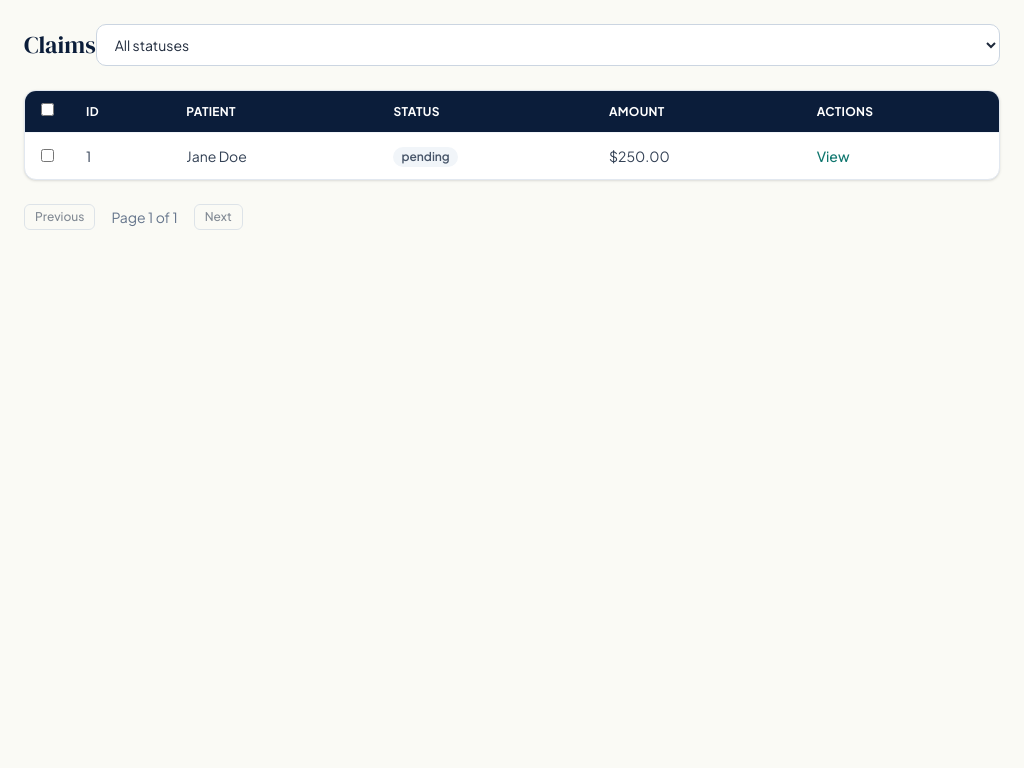
Test: ClaimsList › permission gating › enables the confirm Submit button when the user has billing:batch
Expected: the text "Jane Doe" is shown, [170, 132, 377, 179]
Click the checkbox named "Select claim 1".
click(48, 156)  # box [41, 149, 54, 162]
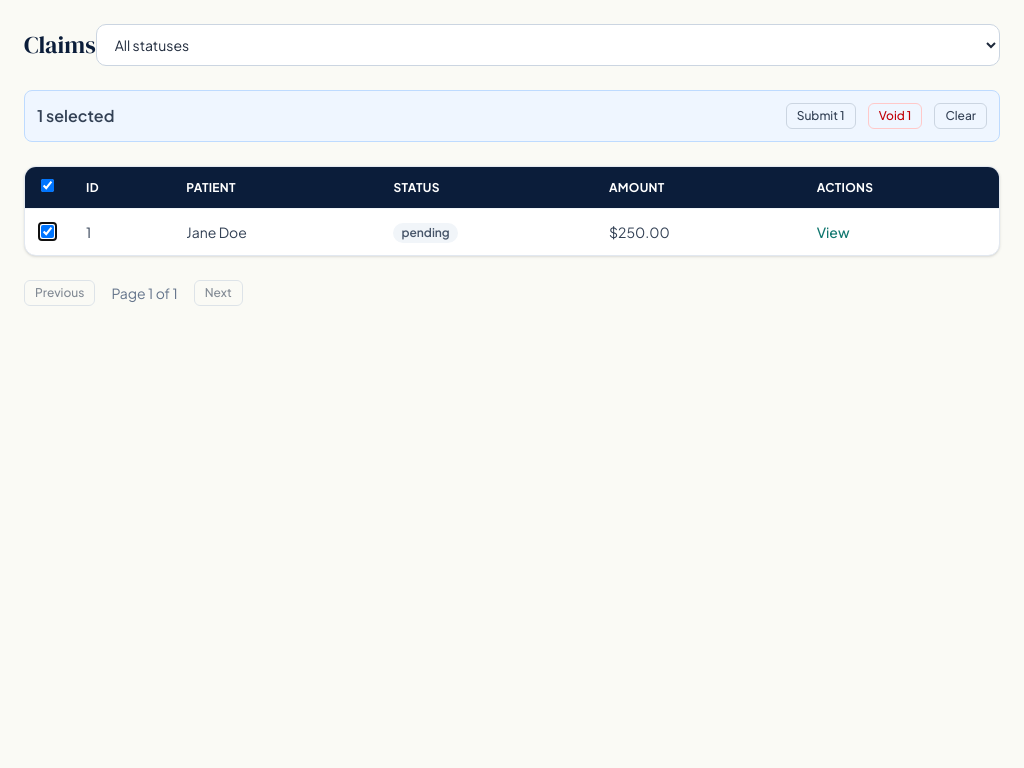
Click the button "Submit 1".
click(821, 116)  # box [786, 103, 856, 129]
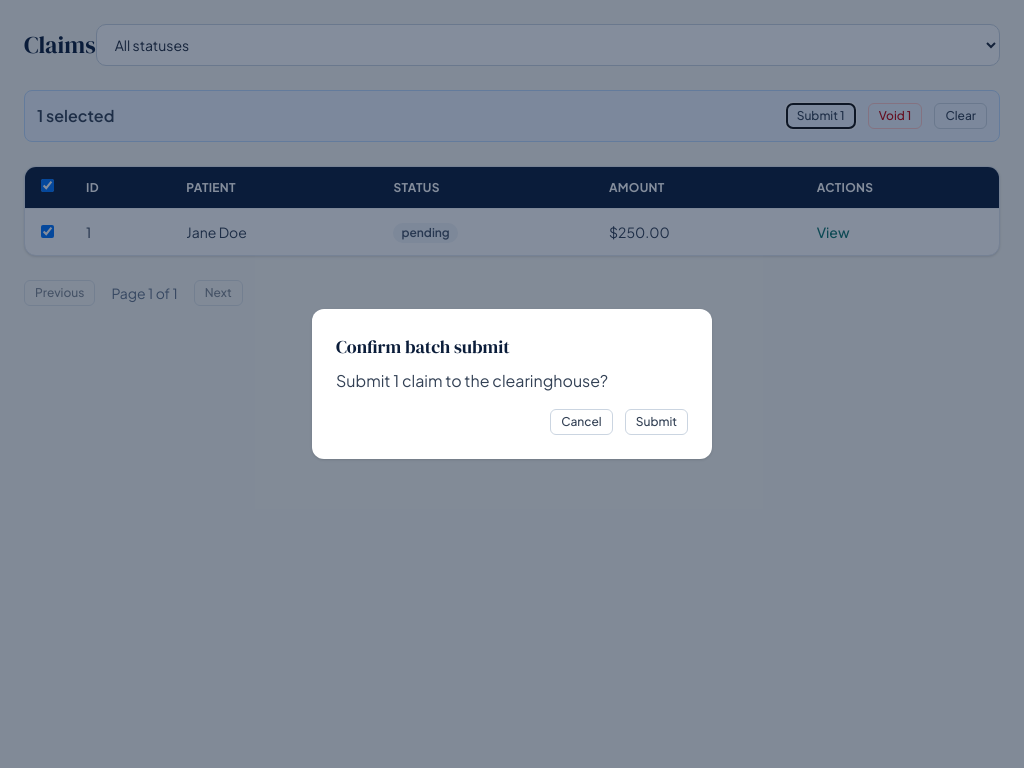
Result: the button "Submit" is enabled at [625, 409, 688, 435]
